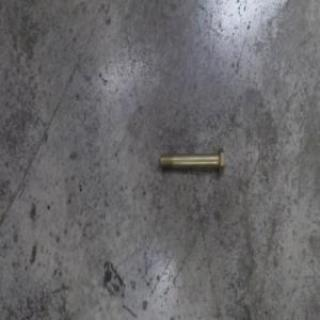Bolttrack_idkeyframe: (157, 144, 226, 174)
